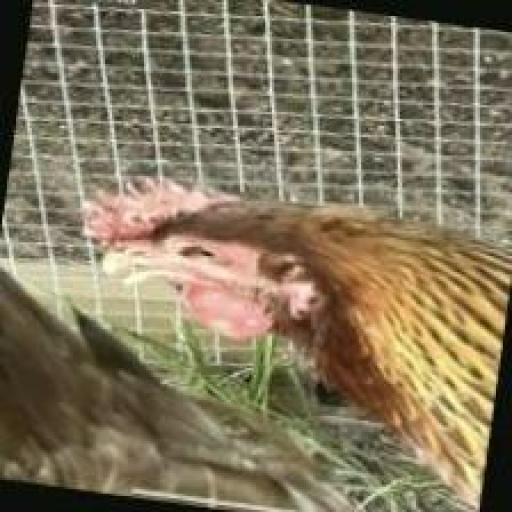disease: (52, 160, 336, 344)
